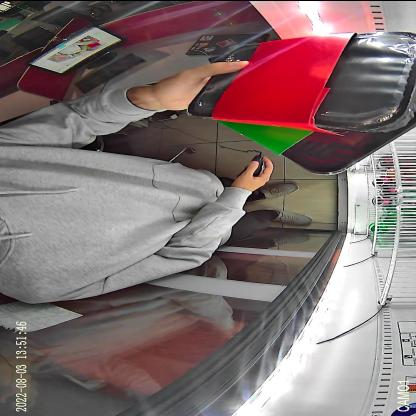green: (214, 113, 416, 175)
red: (184, 30, 416, 132)
